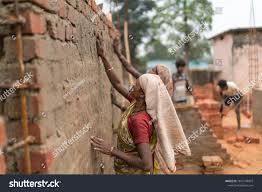arm: (89, 114, 154, 171), (95, 31, 128, 101), (114, 35, 141, 74)
leg: (235, 106, 243, 128), (1, 173, 11, 190)
noglove: (91, 135, 113, 156), (94, 34, 110, 55), (111, 32, 121, 54)
nohelmet: (140, 74, 167, 98), (157, 61, 173, 84), (176, 58, 188, 73), (215, 77, 229, 88)
